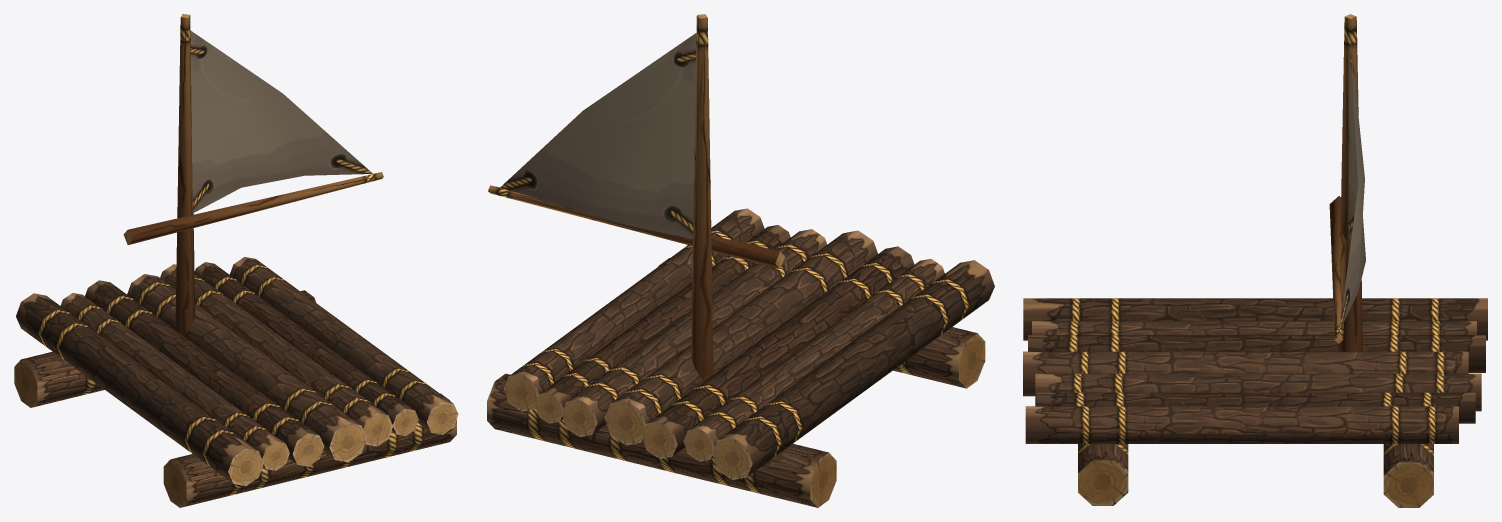
Rendered from raft02.fbx.
3 renders of one model, left to right at view 1: azimuth 30°, elevation 25°; view 2: azimuth 150°, elevation 25°; view 3: azimuth 270°, elevation 25°, orthographic. The views are drawn at different scales.
Visible parts, largest first — view 1: raft02, raft03_sail; view 2: raft02, raft03_sail; view 3: raft02, raft03_sail.
Boxes of the visible parts, <box> form: raft02: <box>14,257,458,507</box>; raft03_sail: <box>123,14,383,335</box>; raft02: <box>487,208,994,507</box>; raft03_sail: <box>488,14,784,381</box>; raft02: <box>1023,298,1487,507</box>; raft03_sail: <box>1329,14,1365,351</box>.
Bounding box in the file's own units: 318 × 352 × 360.
